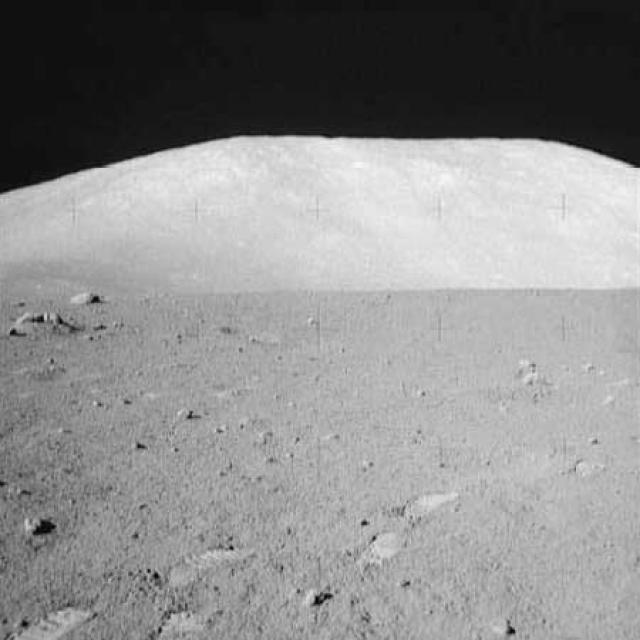rock: (9, 306, 73, 342), (20, 513, 54, 537), (68, 289, 104, 309)
